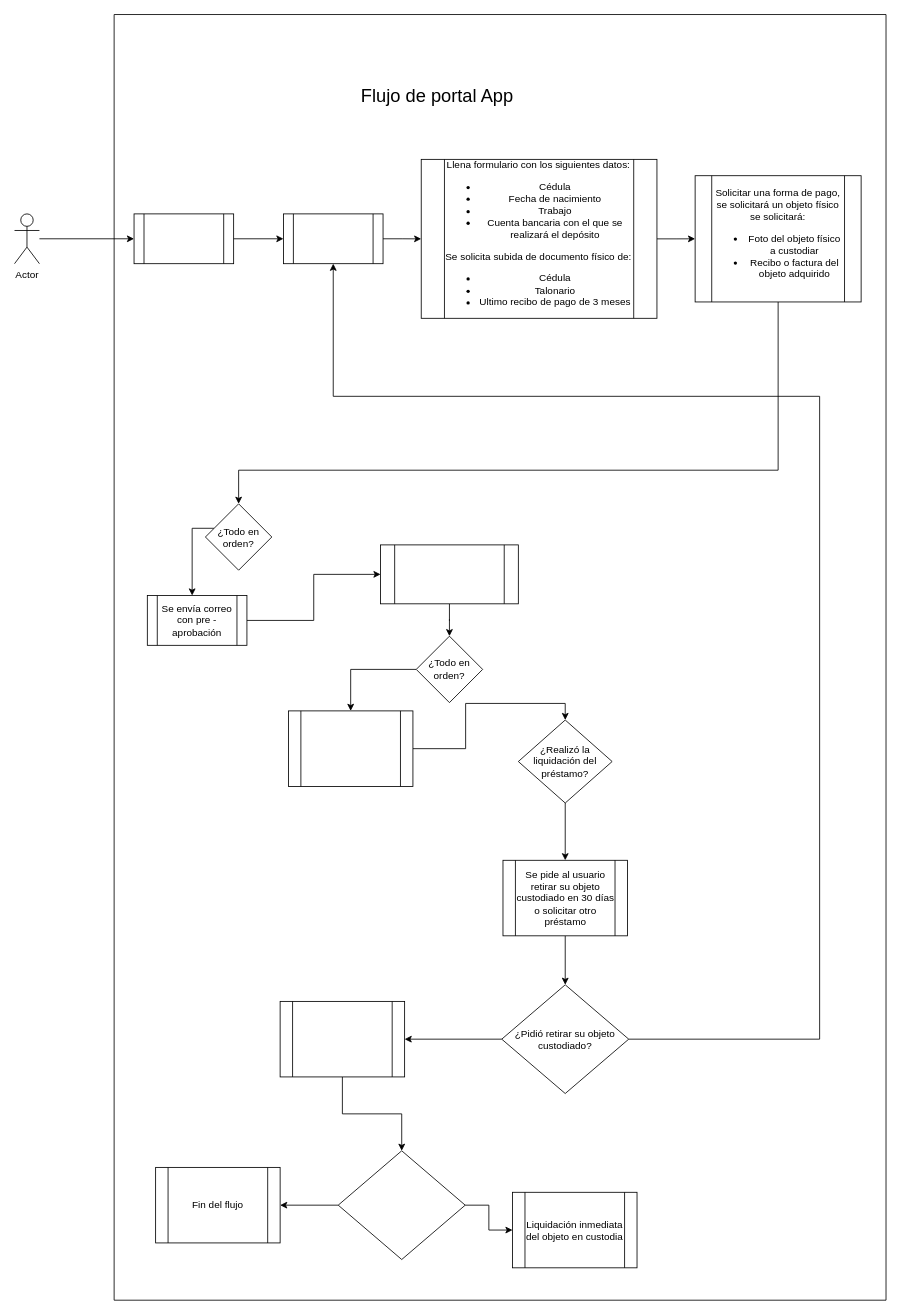
Image size: 901x1315. Some labels were removed from this diagram. The centre of each missing label's shape, as x and y in pixels:
"Entra a realizar Solicita micro prestamo(100$ - 300$)" belongs at point (333, 238).
"Inicia sesión en la app" belongs at point (183, 238).
"Se espera 30 días para su retiro" belongs at point (342, 1039).
"Se pide entrega de recibo y objeto en tienda física para su depósito de préstamo" belongs at point (449, 574).
"Se realiza liberación de préstamo y conteo del inicio y vencimiento del prestamo" belongs at point (350, 748).
"¿Se ha retirado el objeto en custodia?" belongs at point (401, 1205).
